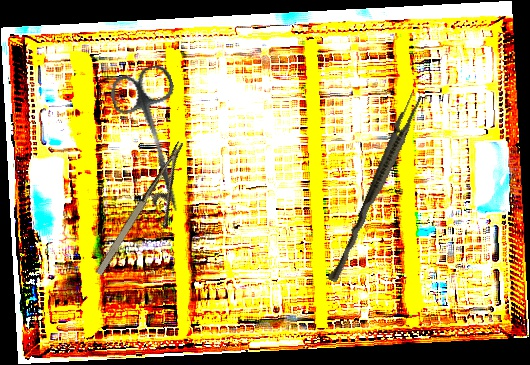Iris Scissors: (106, 61, 209, 220)
Needle Holder: (91, 140, 211, 291)
Tissue Forceps: (327, 90, 424, 286)
